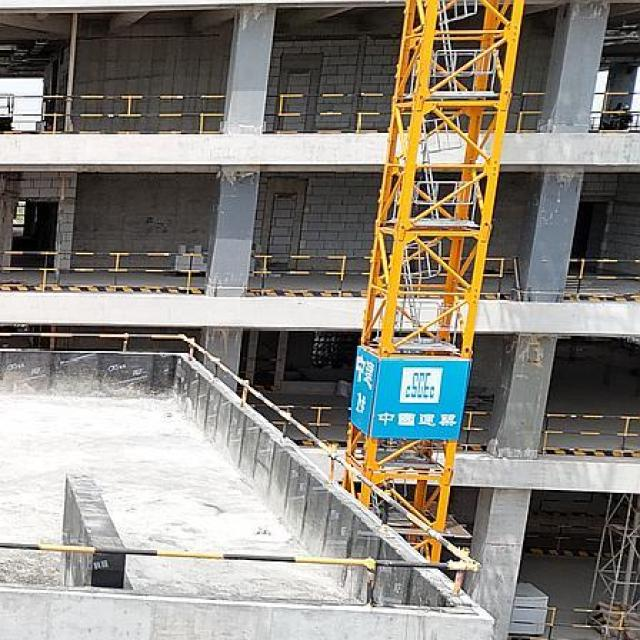Guardrail: (0, 330, 487, 609), (0, 94, 226, 134), (0, 250, 209, 289), (263, 93, 391, 134), (510, 604, 640, 640), (248, 253, 372, 290), (543, 413, 640, 450), (251, 404, 352, 439), (567, 258, 640, 298), (588, 91, 640, 132), (505, 90, 546, 134), (462, 411, 492, 444), (483, 257, 504, 293)
